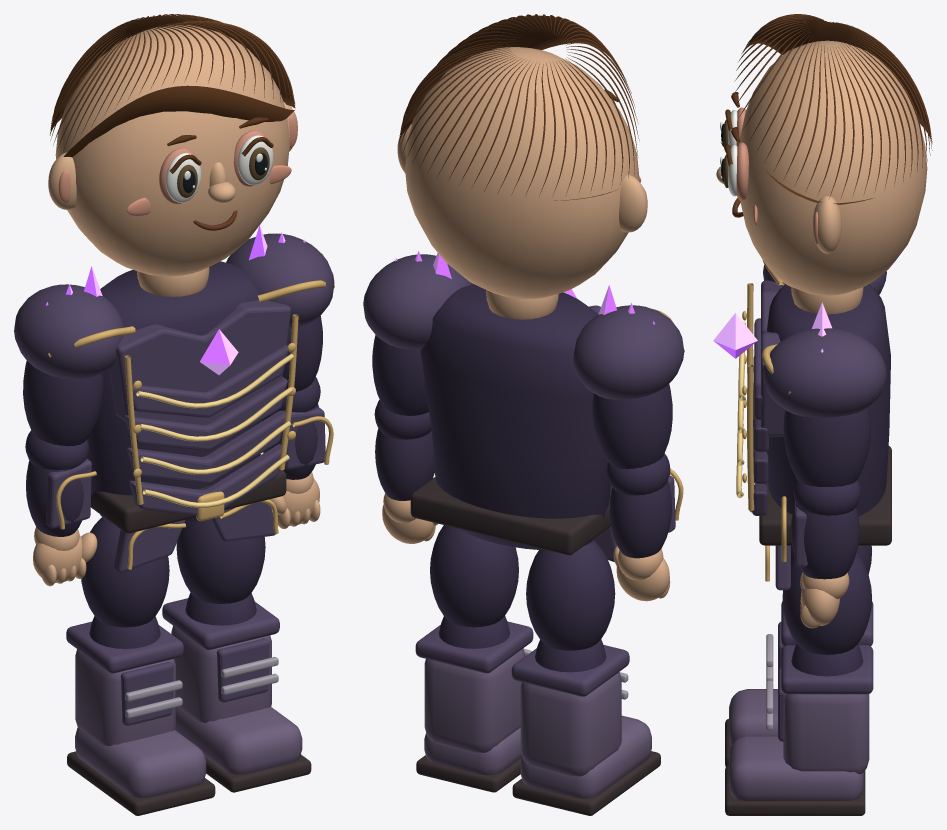
The model's file is codemaster-premium.glb.
The picture shows the model from 3 angles, left to right: view 1: azimuth 30°, elevation 25°; view 2: azimuth 150°, elevation 25°; view 3: azimuth 270°, elevation 25°; orthographic projection.
Visible parts, largest first — view 1: Head_Skin, Torso_Armour, Torso_Cloth, Leg.L_Boot leather, Leg.R_Boot leather, Arm.L_Armour, Arm.L_Cloth, WardrobeHair_Hair, Leg.L_Cloth, Leg.R_Cloth, Arm.R_Armour, WardrobeHair_Hair highlight (+20 smaller); view 2: Head_Skin, Torso_Cloth, Leg.L_Boot leather, Arm.L_Cloth, Leg.R_Boot leather, WardrobeHair_Hair highlight, Leg.L_Cloth, Leg.R_Cloth, Arm.L_Armour, Arm.R_Cloth, Arm.R_Armour, Torso_Boot sole (+8 smaller); view 3: Head_Skin, Leg.R_Boot leather, Arm.R_Cloth, Arm.R_Armour, WardrobeHair_Hair highlight, Torso_Cloth, Leg.R_Cloth, Torso_Armour, WardrobeHair_Hair, Leg.R_Armour, Torso_Boot sole, Leg.R_Boot sole (+11 smaller).
Part boxes in pixels (x1,y1,x2,y2): Head_Skin: [48, 25, 297, 276]; Torso_Armour: [109, 299, 291, 572]; Torso_Cloth: [87, 261, 262, 523]; Leg.L_Boot leather: [75, 649, 206, 798]; Leg.R_Boot leather: [171, 626, 302, 774]; Arm.L_Armour: [14, 284, 123, 528]; Arm.L_Cloth: [23, 360, 103, 536]; WardrobeHair_Hair: [50, 15, 295, 157]; Leg.L_Cloth: [81, 517, 169, 648]; Leg.R_Cloth: [176, 519, 265, 625]; Arm.R_Armour: [226, 233, 334, 469]; WardrobeHair_Hair highlight: [50, 14, 295, 152]; Head_Skin: [397, 47, 647, 298]; Torso_Cloth: [420, 284, 610, 550]; Leg.L_Boot leather: [520, 672, 651, 798]; Arm.L_Cloth: [592, 384, 672, 558]; Leg.R_Boot leather: [424, 648, 525, 775]; WardrobeHair_Hair highlight: [399, 14, 639, 196]; Leg.L_Cloth: [526, 540, 615, 672]; Leg.R_Cloth: [430, 525, 518, 648]; Arm.L_Armour: [573, 305, 684, 532]; Arm.R_Cloth: [372, 335, 434, 500]; Arm.R_Armour: [363, 254, 471, 472]; Torso_Boot sole: [410, 477, 612, 555]; Head_Skin: [716, 40, 927, 295]; Leg.R_Boot leather: [729, 694, 869, 800]; Arm.R_Cloth: [783, 407, 870, 579]; Arm.R_Armour: [763, 328, 886, 567]; WardrobeHair_Hair highlight: [734, 14, 932, 198]; Torso_Cloth: [766, 284, 890, 516]; Leg.R_Cloth: [782, 552, 871, 676]; Torso_Armour: [752, 280, 790, 590]; WardrobeHair_Hair: [743, 16, 931, 204]; Leg.R_Armour: [778, 645, 873, 741]; Torso_Boot sole: [759, 446, 891, 545]; Leg.R_Boot sole: [725, 765, 865, 815].
Size of the model in its own units: 1.01 by 2.39 by 0.6368.
